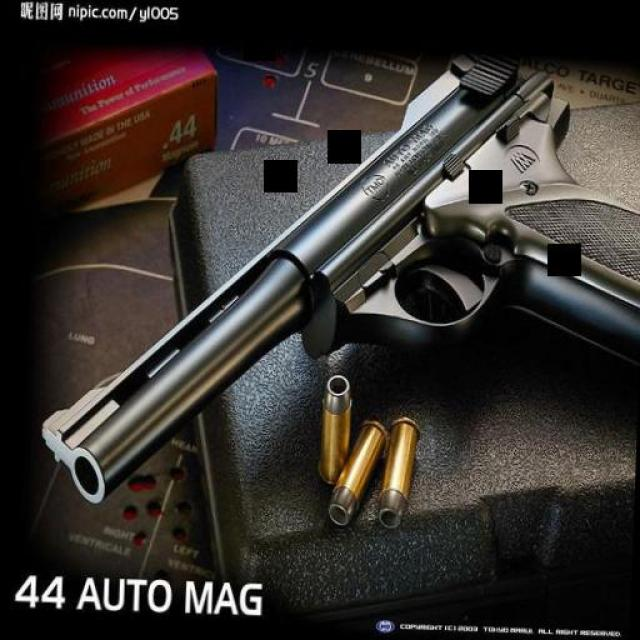gun: (36, 45, 640, 523)
